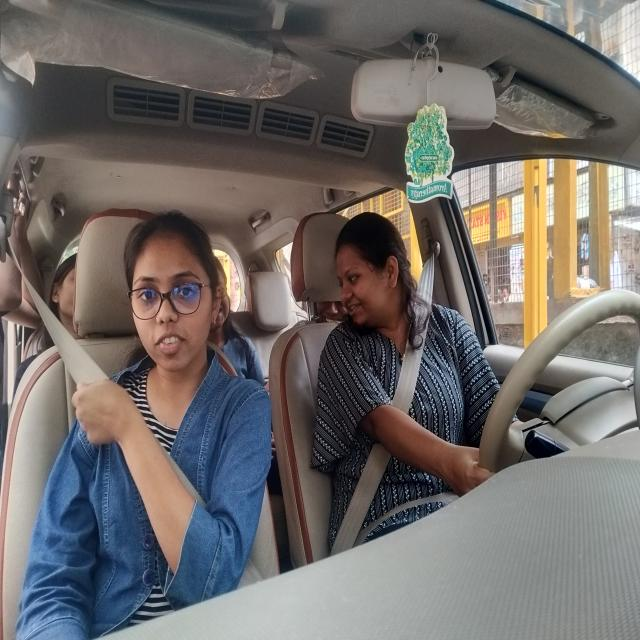LeftRight: (325, 207, 425, 352)
person: (89, 204, 233, 402)
